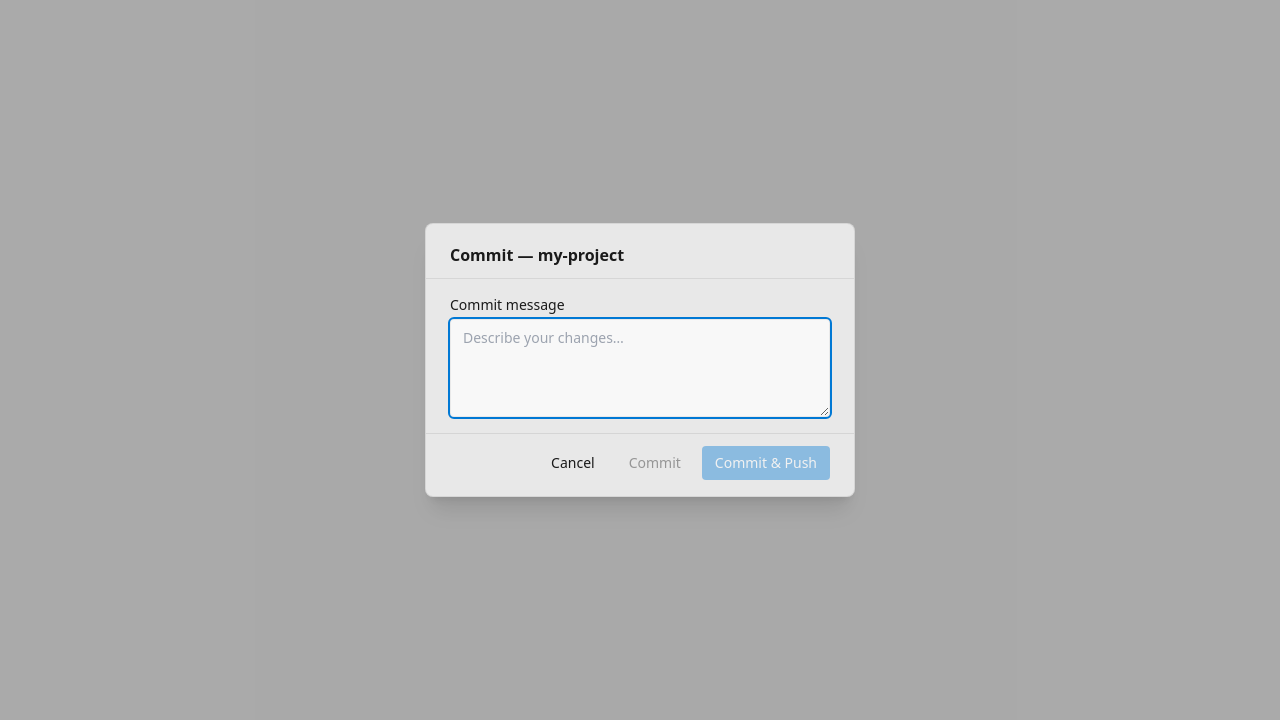
Test case: CommitDialog › shows error inline and stays open on failure
This screenshot has width=1280, height=720.
Step 1. Type "test commit" into the text box labelled "Commit message" → (640, 368), box [450,319,830,417]
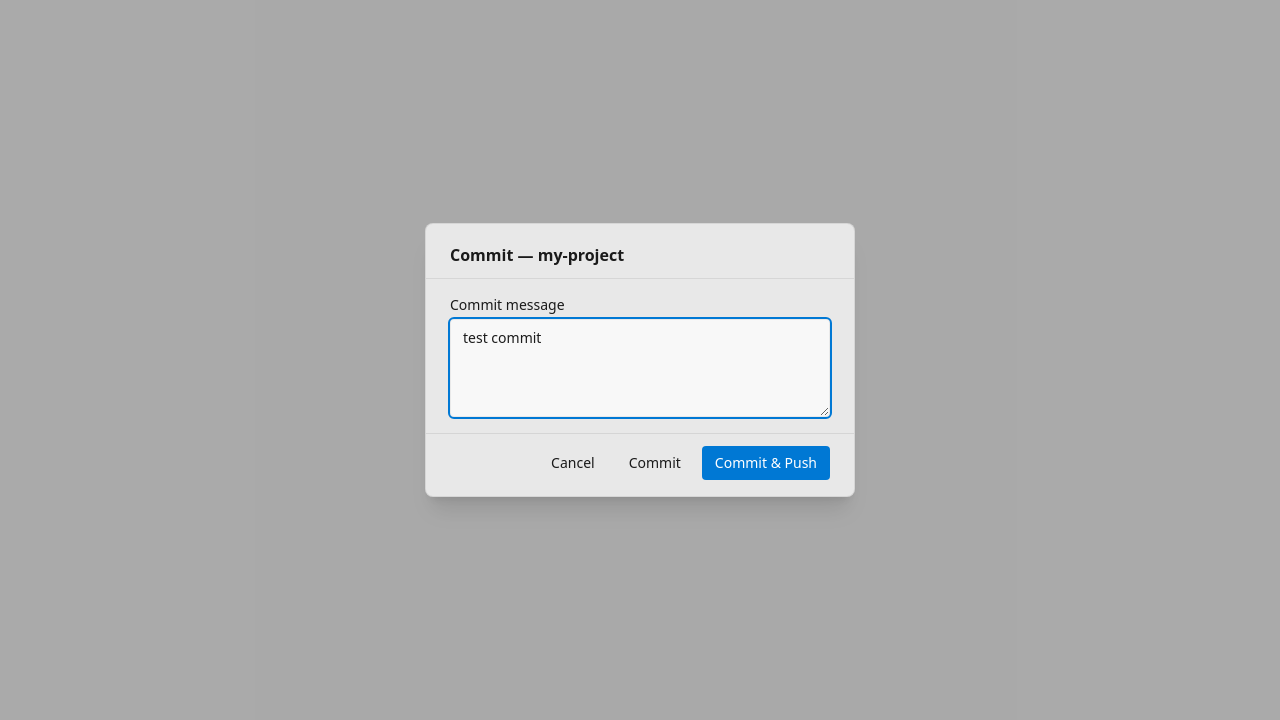
Step 2. Click the button "Commit" → click(655, 463), box [616,446,694,480]
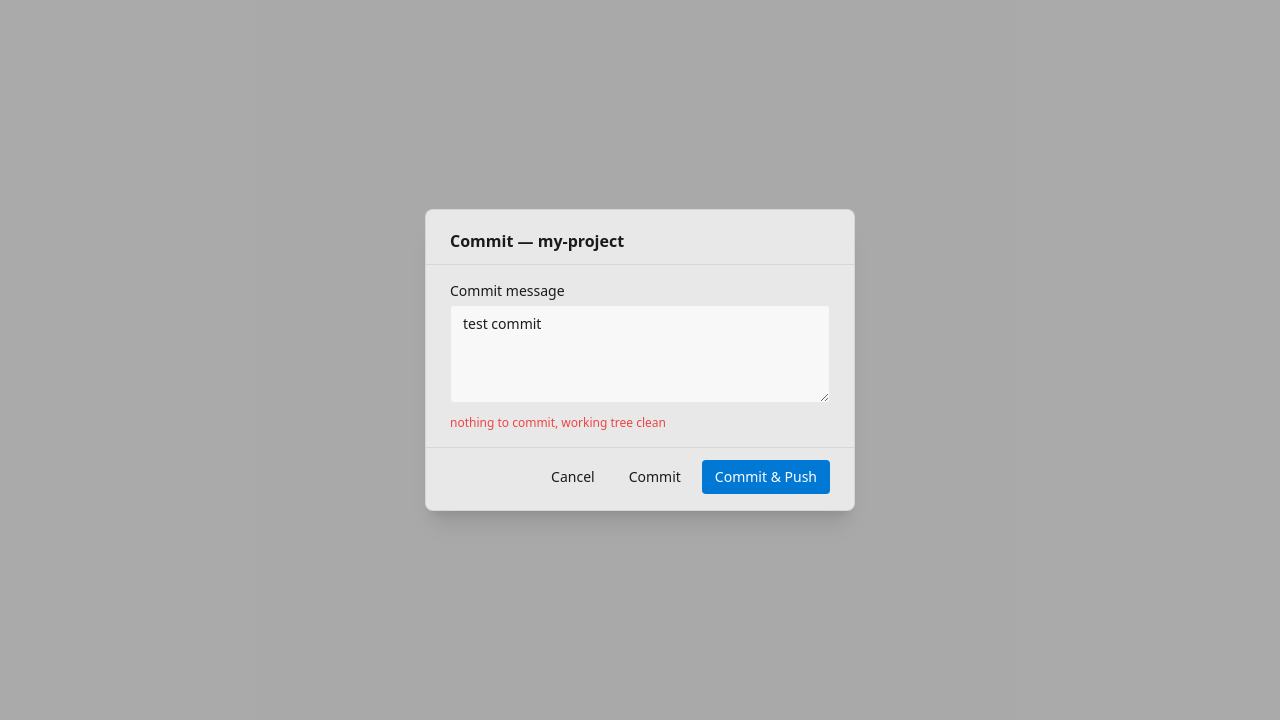
Now the message reads "nothing to commit, working tree clean", box [450,414,666,431]
